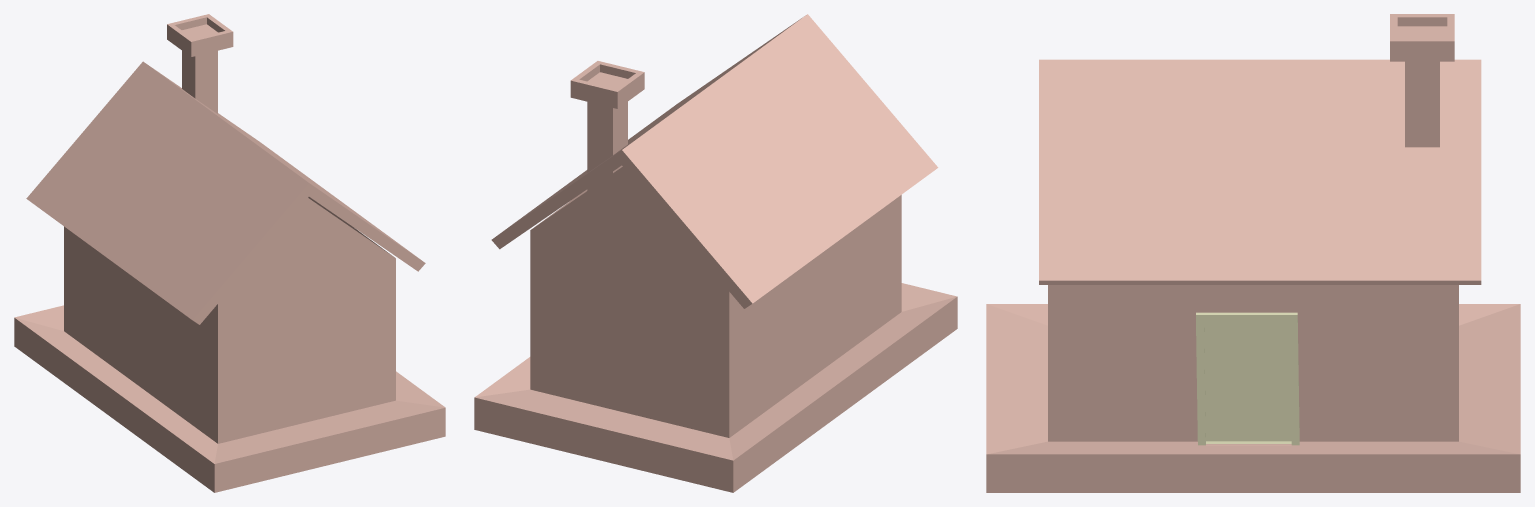
Rendered from HouseNew1.glb.
3 renders of one model, left to right at view 1: azimuth 30°, elevation 25°; view 2: azimuth 150°, elevation 25°; view 3: azimuth 270°, elevation 25°, orthographic. The views are drawn at different scales.
Visible parts, largest first — view 1: Cube, Roof, Chimney; view 2: Cube, Roof, Chimney; view 3: Roof, Cube, Door, Chimney.
Part boxes in pixels (x1=…): Cube: x1=14, y1=197, x2=445, y2=492; Roof: x1=26, y1=61, x2=425, y2=324; Chimney: x1=167, y1=14, x2=233, y2=113; Cube: x1=474, y1=166, x2=957, y2=492; Roof: x1=491, y1=14, x2=938, y2=308; Chimney: x1=570, y1=61, x2=644, y2=190; Roof: x1=1039, y1=59, x2=1481, y2=284; Cube: x1=986, y1=285, x2=1520, y2=492; Door: x1=1196, y1=312, x2=1299, y2=445; Chimney: x1=1390, y1=14, x2=1454, y2=147.
Bounding box in the file's own units: 5.26 × 6.64 × 7.8.
